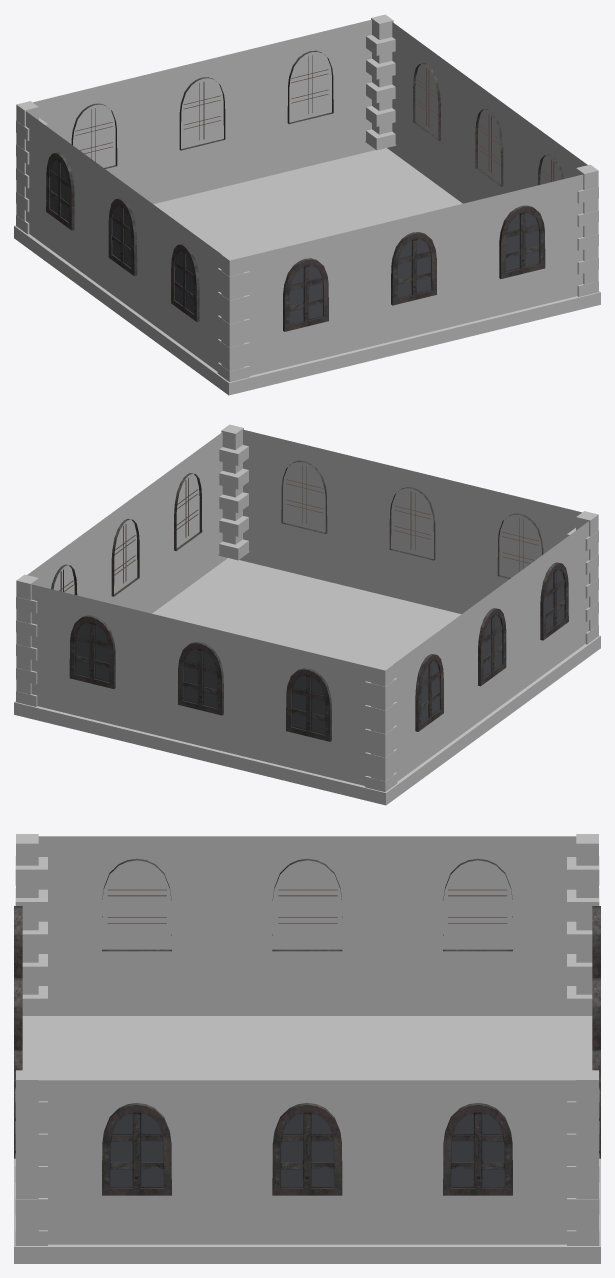
The model's file is sb_obj_outdoor002_DemonsCastle01_wall03.fbx.
The picture shows the model from 3 angles, top to bottom: view 1: azimuth 30°, elevation 25°; view 2: azimuth 150°, elevation 25°; view 3: azimuth 270°, elevation 25°; orthographic projection. The views are drawn at different scales.
Parts seen in each view (by area): view 1: sb_obj_outdoor002_DemonsCastle01_wall03; view 2: sb_obj_outdoor002_DemonsCastle01_wall03; view 3: sb_obj_outdoor002_DemonsCastle01_wall03.
Part boxes in pixels (x1,y1,x2,y2): sb_obj_outdoor002_DemonsCastle01_wall03: [14, 14, 600, 395]; sb_obj_outdoor002_DemonsCastle01_wall03: [14, 424, 600, 805]; sb_obj_outdoor002_DemonsCastle01_wall03: [14, 834, 600, 1263].
Size of the model in its own units: 8.82 by 3.03 by 8.82.
